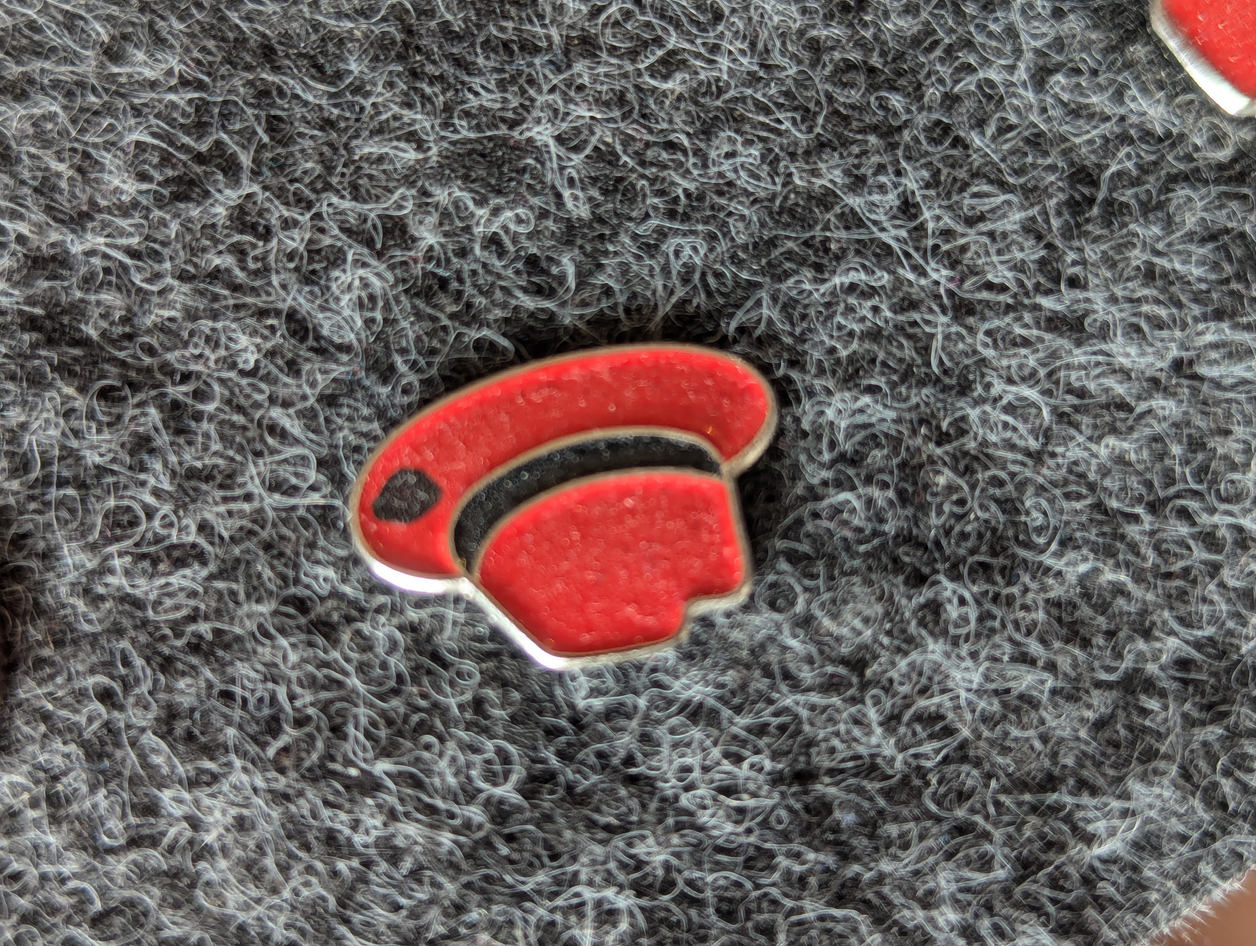Red-Hat: (262, 298, 892, 738)
Scratch: (339, 428, 486, 545)
